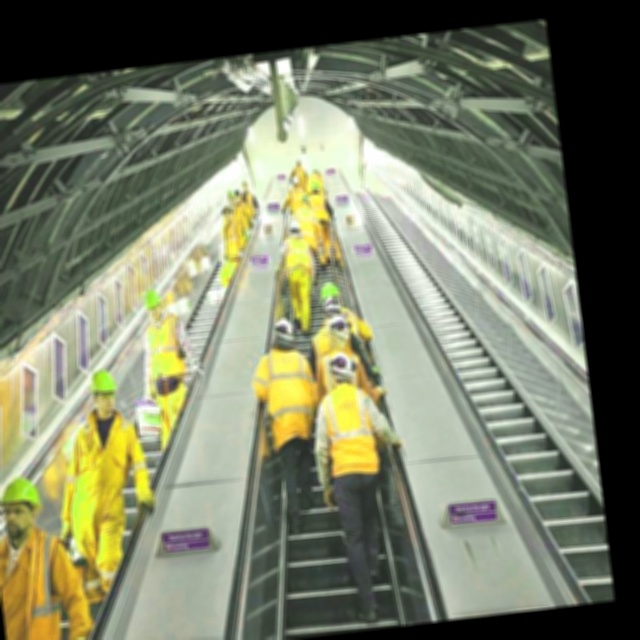Con_Casco: (0, 477, 43, 537), (89, 368, 120, 413), (273, 317, 298, 347), (143, 288, 162, 317), (288, 217, 302, 234)
Con_Chaleco: (70, 415, 139, 508), (321, 385, 381, 475), (265, 348, 316, 437), (142, 315, 184, 379)
